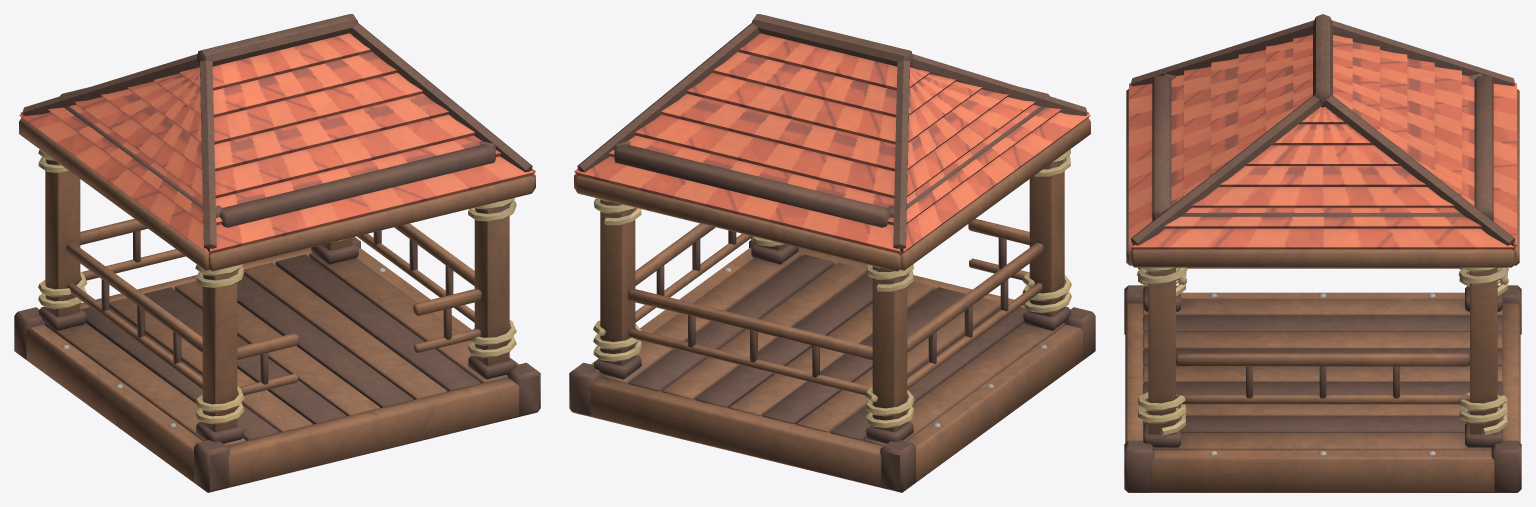
File: CC_A02_PierGazebo.fbx
The picture shows the model from 3 angles, left to right: view 1: azimuth 30°, elevation 25°; view 2: azimuth 150°, elevation 25°; view 3: azimuth 270°, elevation 25°; orthographic projection. The views are drawn at different scales.
Visible parts, largest first — view 1: Roof_LOD0, Floor_LOD0, Post_01, Post_02, Post_03, Rail_L, Rail_R, Rail_Back, Rail_Front_R, Rail_Front_L, Post_04; view 2: Roof_LOD0, Floor_LOD0, Post_03, Post_04, Rail_Back, Post_01, Rail_L, Rail_R, Rail_Front_L, Post_02; view 3: Roof_LOD0, Floor_LOD0, Rail_R, Post_02, Post_04, Rail_L.
Part boxes in pixels (<box>): Roof_LOD0: <box>19,14,535,271</box>; Floor_LOD0: <box>14,237,540,492</box>; Post_01: <box>195,264,244,443</box>; Post_02: <box>467,198,516,379</box>; Post_03: <box>38,149,87,330</box>; Rail_L: <box>66,242,202,388</box>; Rail_R: <box>357,223,474,322</box>; Rail_Back: <box>80,218,185,280</box>; Rail_Front_R: <box>413,288,481,353</box>; Rail_Front_L: <box>237,333,298,395</box>; Post_04: <box>311,237,358,264</box>; Roof_LOD0: <box>574,14,1090,271</box>; Floor_LOD0: <box>569,240,1095,492</box>; Post_03: <box>865,264,914,443</box>; Post_04: <box>593,198,642,379</box>; Rail_Back: <box>628,288,872,395</box>; Post_01: <box>1022,149,1071,330</box>; Rail_L: <box>907,242,1043,388</box>; Rail_R: <box>635,223,752,322</box>; Rail_Front_L: <box>968,218,1029,280</box>; Post_02: <box>750,236,798,264</box>; Roof_LOD0: <box>1126,14,1519,267</box>; Floor_LOD0: <box>1124,285,1521,492</box>; Rail_R: <box>1176,353,1469,404</box>; Post_02: <box>1137,267,1187,447</box>; Post_04: <box>1458,267,1508,447</box>; Rail_L: <box>1187,267,1459,268</box>.
Size of what is drawn, in the model's own units: 4 by 3.99 by 4.
